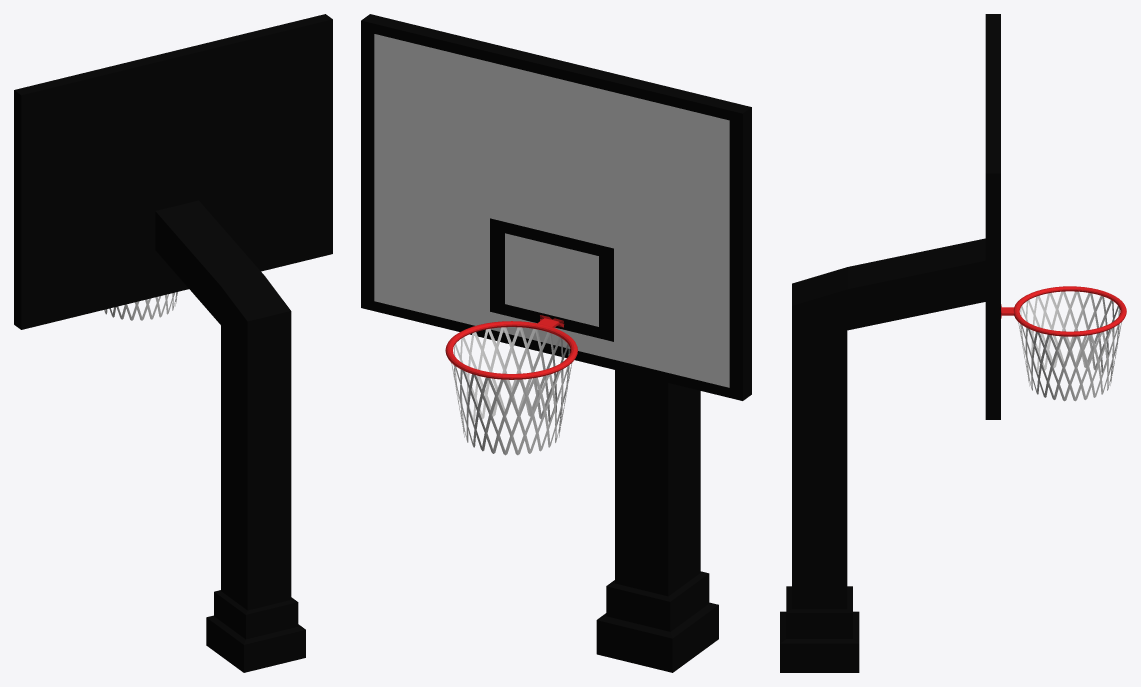
The model's file is low_poly_basketball_hoop.glb.
The picture shows the model from 3 angles, left to right: view 1: azimuth 30°, elevation 25°; view 2: azimuth 150°, elevation 25°; view 3: azimuth 270°, elevation 25°; orthographic projection. The views are drawn at different scales.
Visible parts, largest first — view 1: Cube_0; view 2: Cube_0; view 3: Cube_0.
Part boxes in pixels (bbox=[...]): Cube_0: bbox=[14, 14, 332, 672]; Cube_0: bbox=[361, 14, 751, 672]; Cube_0: bbox=[780, 14, 1126, 672].
Size of the model in its own units: 2.78 by 4.57 by 2.55.
